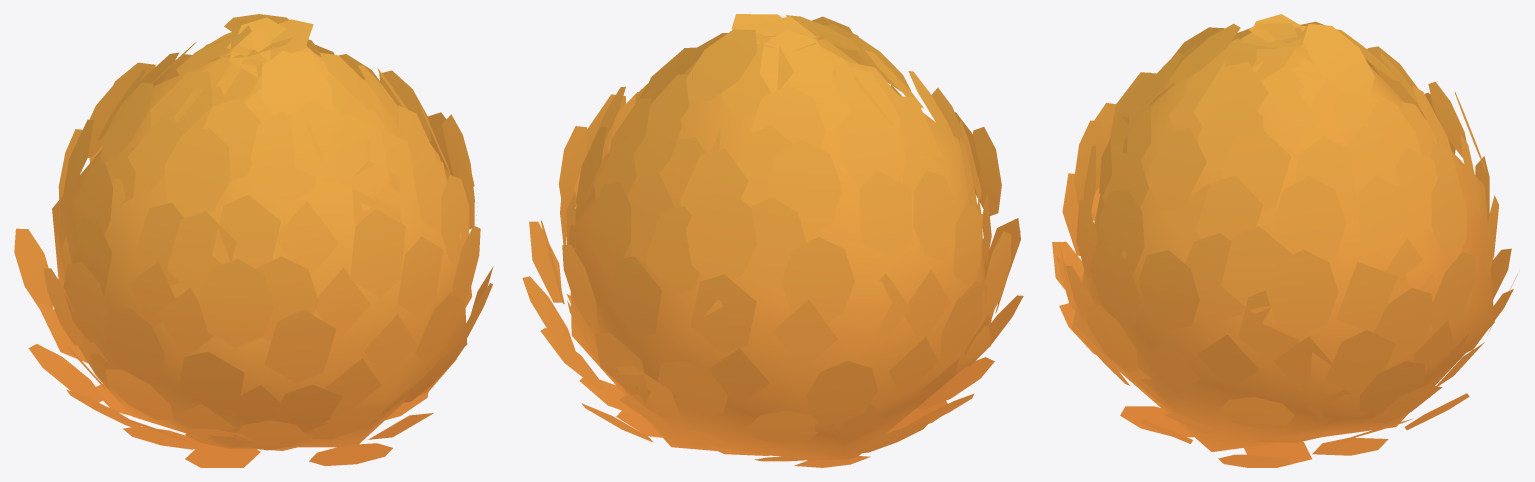
File: bushesyellow.glb
The picture shows the model from 3 angles, left to right: view 1: azimuth 30°, elevation 25°; view 2: azimuth 150°, elevation 25°; view 3: azimuth 270°, elevation 25°; orthographic projection. The views are drawn at different scales.
Visible parts, largest first — view 1: bushesyellow; view 2: bushesyellow; view 3: bushesyellow.
Boxes of the visible parts, bbox=[...] form: bushesyellow: bbox=[14, 14, 493, 467]; bushesyellow: bbox=[522, 14, 1023, 467]; bushesyellow: bbox=[1052, 14, 1517, 467].
Bounding box in the file's own units: 1.93 × 1.84 × 1.93.
1 material, 1 textured.
